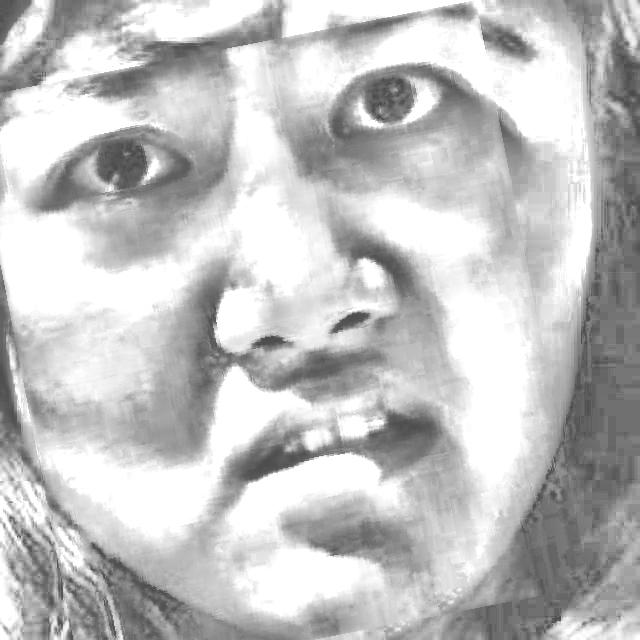angry: (0, 21, 563, 640)
